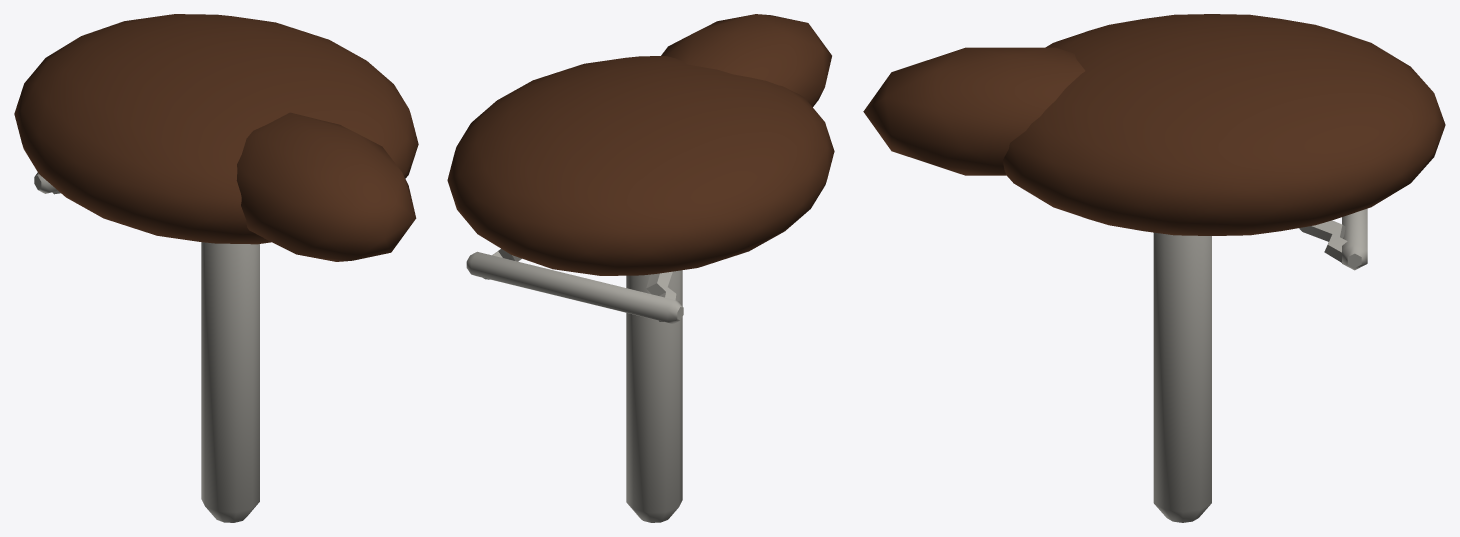
The model's file is bicycle_chibi_saddle.glb.
3 renders of one model, left to right at view 1: azimuth 30°, elevation 25°; view 2: azimuth 150°, elevation 25°; view 3: azimuth 270°, elevation 25°, orthographic. The views are drawn at different scales.
Visible parts, largest first — view 1: Sammel Stoff, Sammel Metall; view 2: Sammel Stoff, Sammel Metall; view 3: Sammel Stoff, Sammel Metall.
Part boxes in pixels (x1,y1,x2,y2): Sammel Stoff: (14,14,418,261); Sammel Metall: (34,172,259,522); Sammel Stoff: (447,14,834,275); Sammel Metall: (466,249,683,522); Sammel Stoff: (863,14,1445,235); Sammel Metall: (1153,208,1367,522).
Bounding box in the file's own units: 0.164 × 0.2085 × 0.237.
